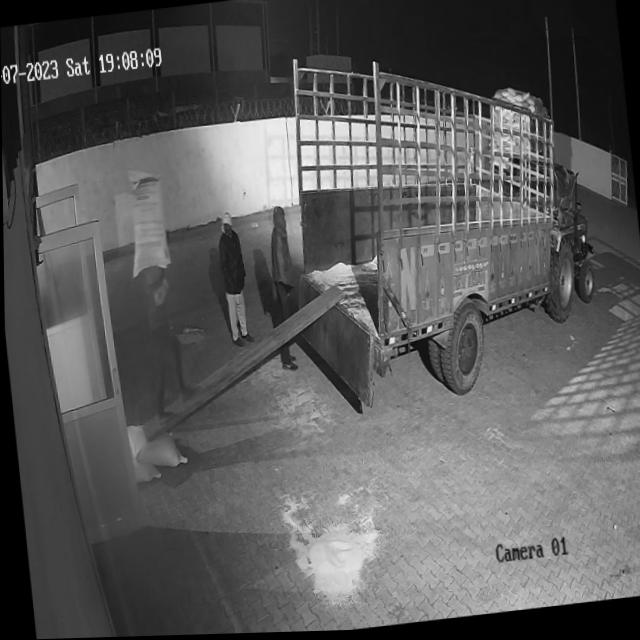sack: (120, 167, 170, 277), (125, 418, 184, 473)
